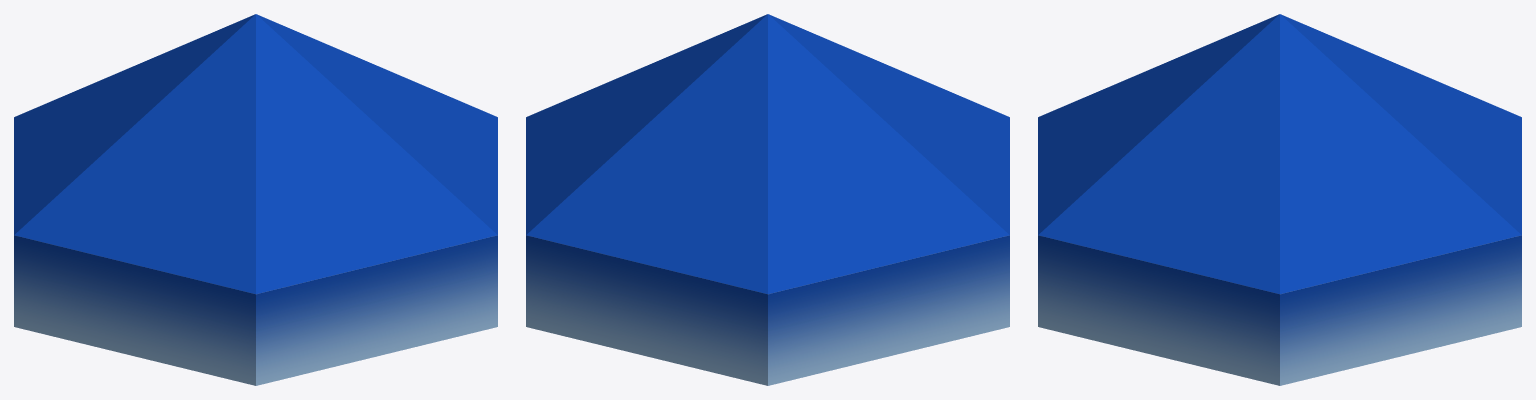
Rendered from ToontownSkybox.glb.
The picture shows the model from 3 angles, left to right: view 1: azimuth 30°, elevation 25°; view 2: azimuth 150°, elevation 25°; view 3: azimuth 270°, elevation 25°; orthographic projection.
Visible parts, largest first — view 1: TT_sky; view 2: TT_sky; view 3: TT_sky.
Boxes of the visible parts, x1,y1,x2,y2 form: TT_sky: (14,14,497,385); TT_sky: (526,14,1009,385); TT_sky: (1038,14,1521,385).
Bounding box in the file's own units: 698 × 350 × 604.
2 materials, 2 textured.
